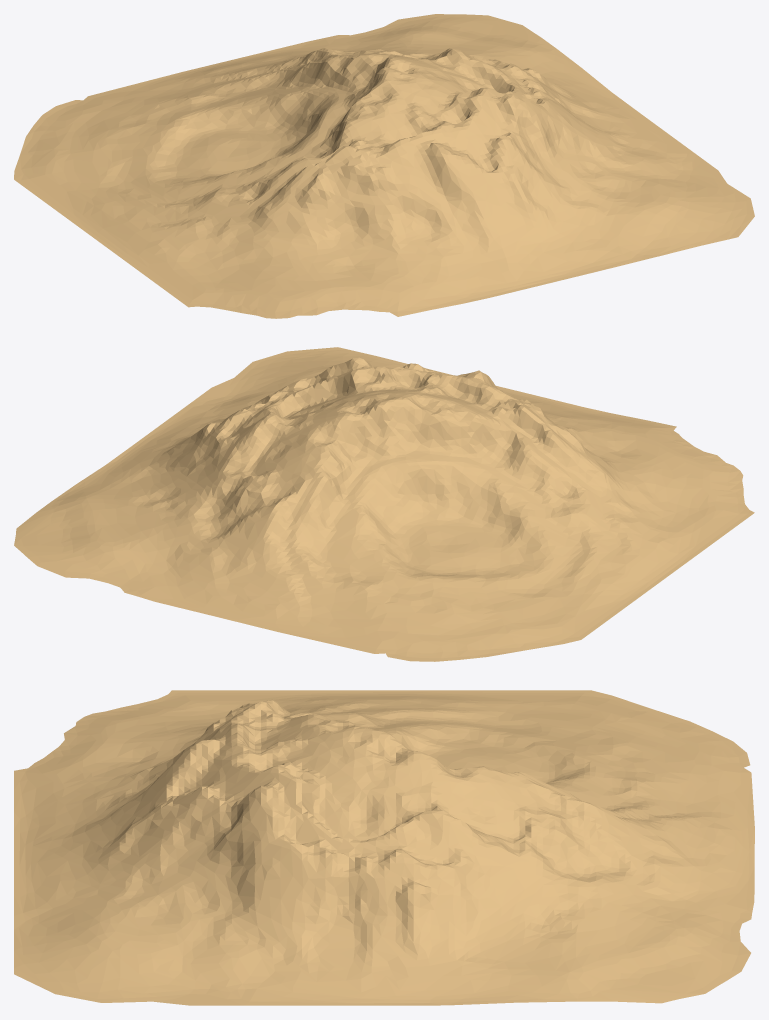
Rendered from island_l_f_04.fbx.
3 views of the same model, one above another, from view 1: azimuth 30°, elevation 25°; view 2: azimuth 150°, elevation 25°; view 3: azimuth 270°, elevation 25° (orthographic). The views are drawn at different scales.
Visible parts, largest first — view 1: MT_Island_L_f_04; view 2: MT_Island_L_f_04; view 3: MT_Island_L_f_04.
Part boxes in pixels (left/top/right/bottom): MT_Island_L_f_04: left=14, top=14, right=754, bottom=318; MT_Island_L_f_04: left=14, top=347, right=754, bottom=661; MT_Island_L_f_04: left=14, top=690, right=754, bottom=1005.
Size of the model in its own units: 20000 by 3725 by 19855.
